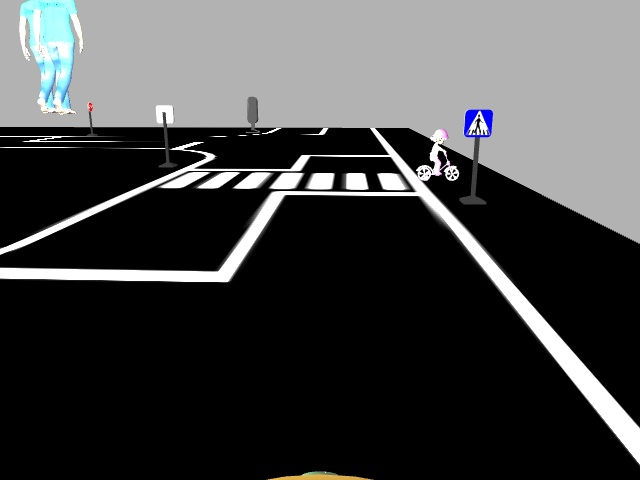Pedestrian: (412, 121, 463, 185)
